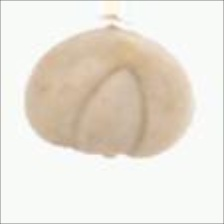L5: (68, 62, 149, 162)
L6: (21, 23, 195, 164)
